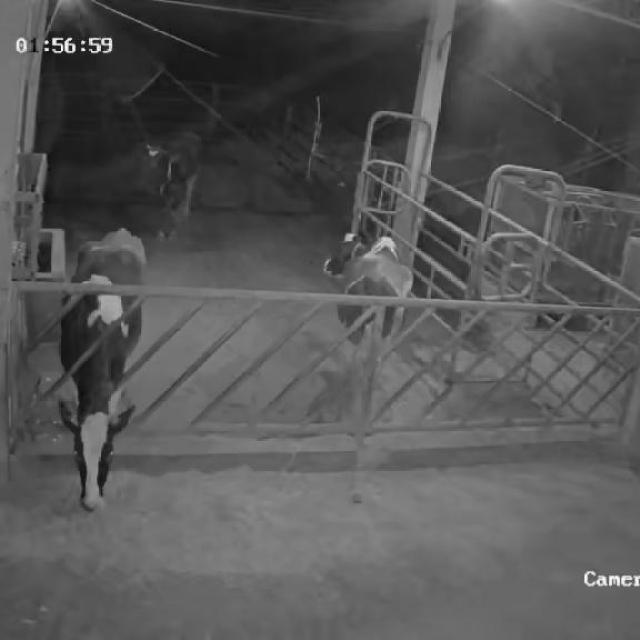feeding: (53, 221, 151, 516)
standing: (317, 226, 412, 423), (138, 121, 208, 242)
